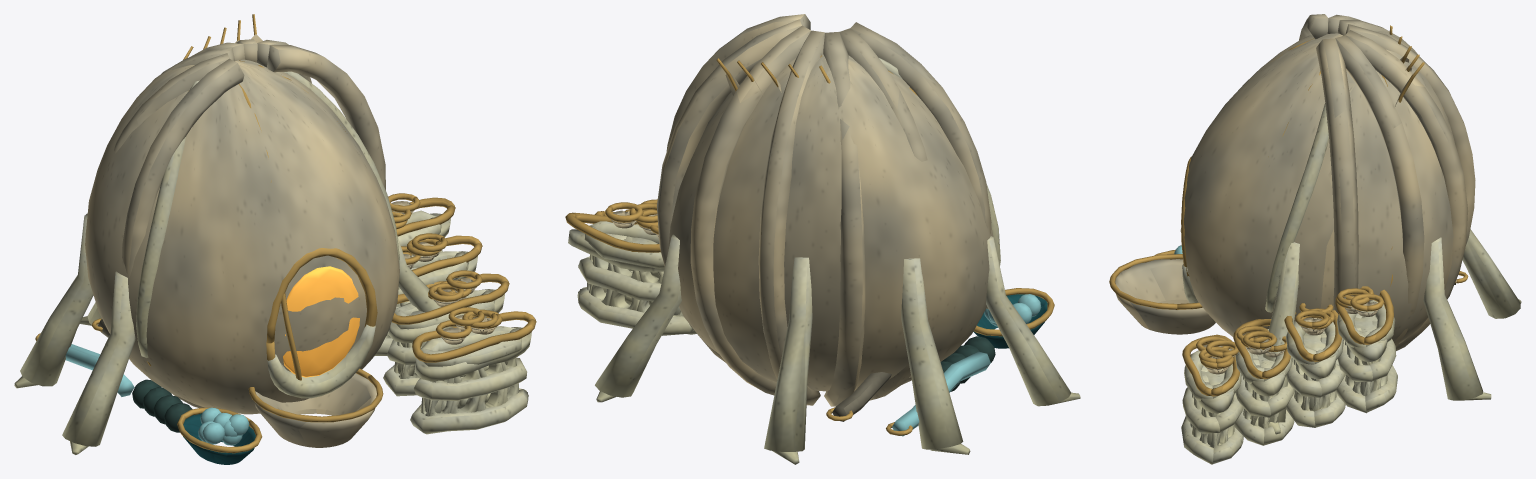
Rendered from 09_ceramic_kiln_lod.glb.
3 renders of one model, left to right at view 1: azimuth 30°, elevation 25°; view 2: azimuth 150°, elevation 25°; view 3: azimuth 270°, elevation 25°, orthographic. The views are drawn at different scales.
Parts seen in each view (by area): view 1: GrowthShellMesh.008, GrowthFrameMesh.008, CargoOutput__fired_ceramicMesh, DormancyMesh.006, ActivityMesh.006, CargoInput__anoxic_organicsMesh, CargoInput__prepared_silicaMesh; view 2: GrowthShellMesh.008, GrowthFrameMesh.008, CargoOutput__fired_ceramicMesh, CargoInput__anoxic_organicsMesh, CargoInput__prepared_silicaMesh; view 3: GrowthShellMesh.008, GrowthFrameMesh.008, CargoOutput__fired_ceramicMesh.
Part boxes in pixels (x1,y1,x2,y2): GrowthShellMesh.008: (65,34,399,464); GrowthFrameMesh.008: (14,14,536,454); CargoOutput__fired_ceramicMesh: (388,193,502,344); DormancyMesh.006: (274,255,366,371); ActivityMesh.006: (283,266,359,377); CargoInput__anoxic_organicsMesh: (132,379,192,432); CargoInput__prepared_silicaMesh: (198,407,249,445); GrowthShellMesh.008: (656,14,1047,436); GrowthFrameMesh.008: (565,55,1080,464); CargoOutput__fired_ceramicMesh: (605,199,658,238); CargoInput__anoxic_organicsMesh: (940,336,995,391); CargoInput__prepared_silicaMesh: (984,294,1041,326); GrowthShellMesh.008: (1115,14,1475,350); GrowthFrameMesh.008: (1109,25,1521,464); CargoOutput__fired_ceramicMesh: (1196,286,1384,374).
Size of the model in its own units: 4 by 3.17 by 3.48.
8 materials, 8 textured.
